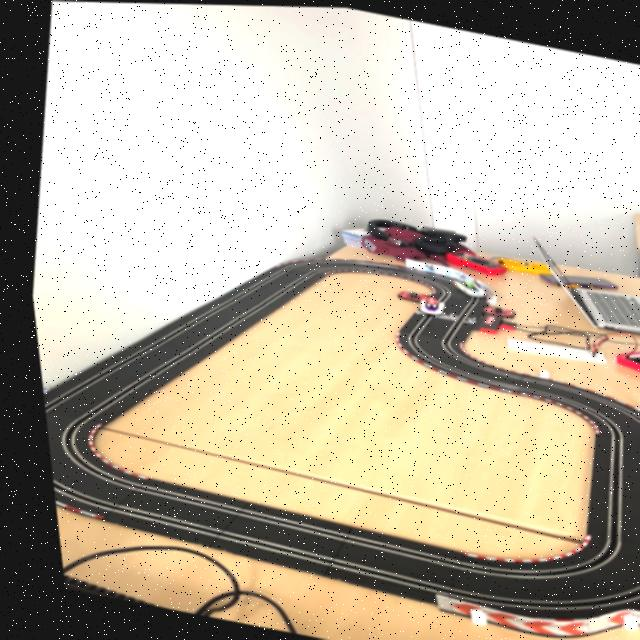mario: (407, 292, 443, 317)
yoshi: (440, 273, 485, 299)
